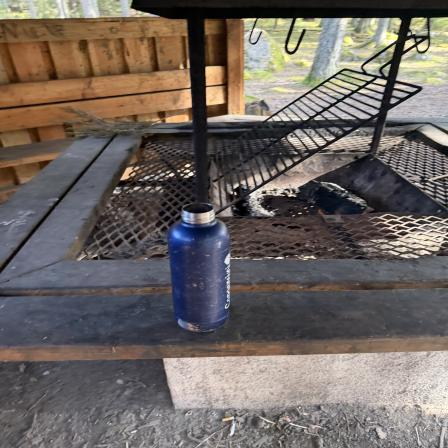blue_bottle: (167, 202, 231, 331)
